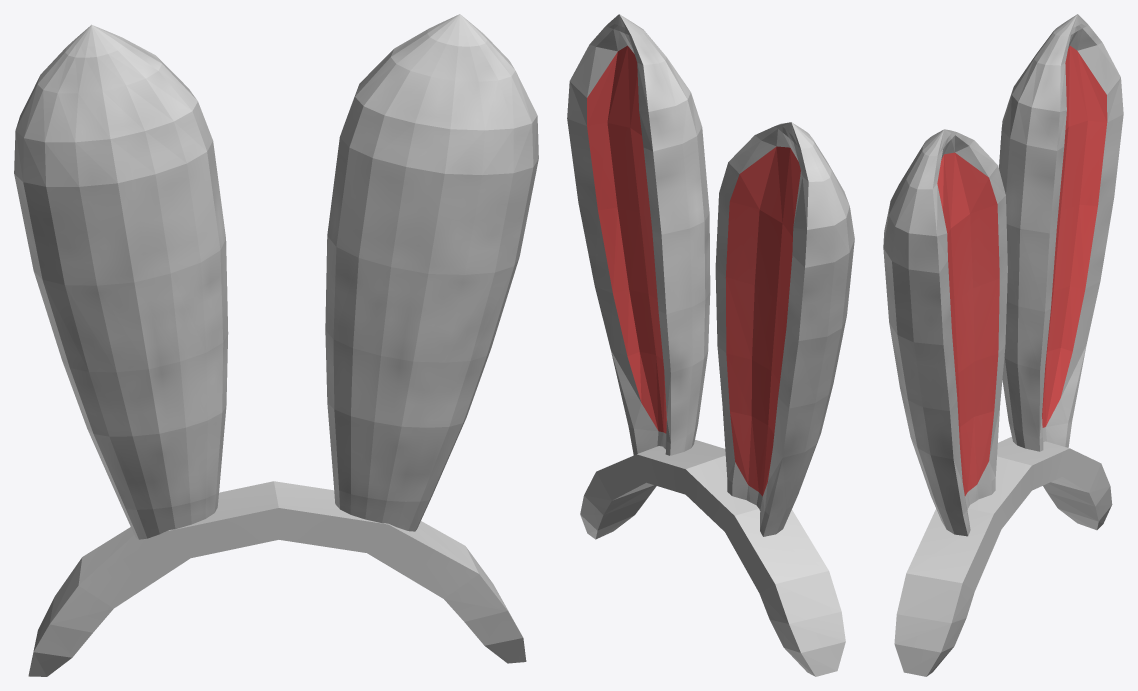
File: WHITE BUNNY EARS.fbx
3 views of the same model, side by side, from view 1: azimuth 30°, elevation 25°; view 2: azimuth 150°, elevation 25°; view 3: azimuth 270°, elevation 25° (orthographic). The views are drawn at different scales.
Visible parts, largest first — view 1: WHITE_BUNNY_EARS; view 2: WHITE_BUNNY_EARS; view 3: WHITE_BUNNY_EARS.
Boxes of the visible parts, left/top/right/bottom form: WHITE_BUNNY_EARS: left=14, top=14, right=538, bottom=676; WHITE_BUNNY_EARS: left=567, top=14, right=854, bottom=676; WHITE_BUNNY_EARS: left=883, top=14, right=1123, bottom=676.
Bounding box in the file's own units: 22.04 × 32.11 × 13.22.
